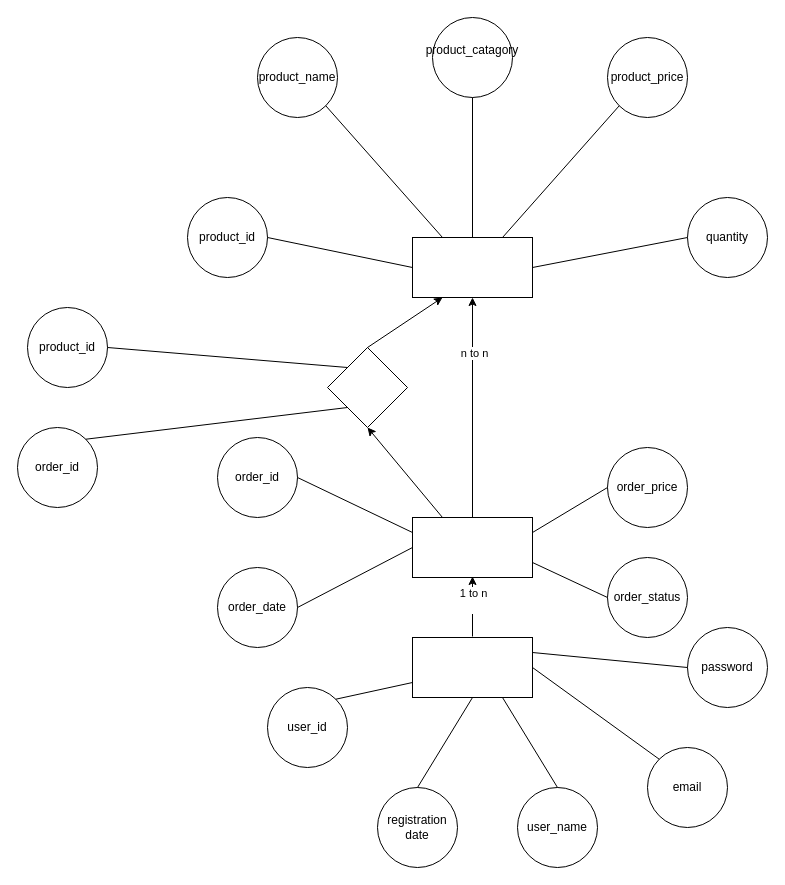
This 785x885 diagram has some shape labels left out. Each missing label, with the box of its shape:
Order: (412, 516, 532, 578)
Product: (412, 236, 532, 298)
Shopping Cart: (326, 346, 408, 428)
User: (412, 636, 532, 698)
